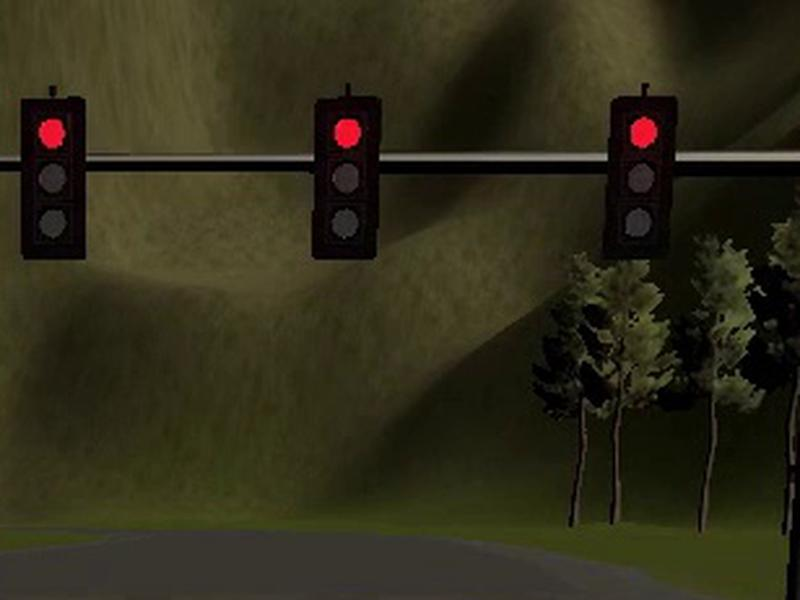Red: (604, 95, 677, 258), (312, 97, 377, 259), (22, 99, 86, 260)
